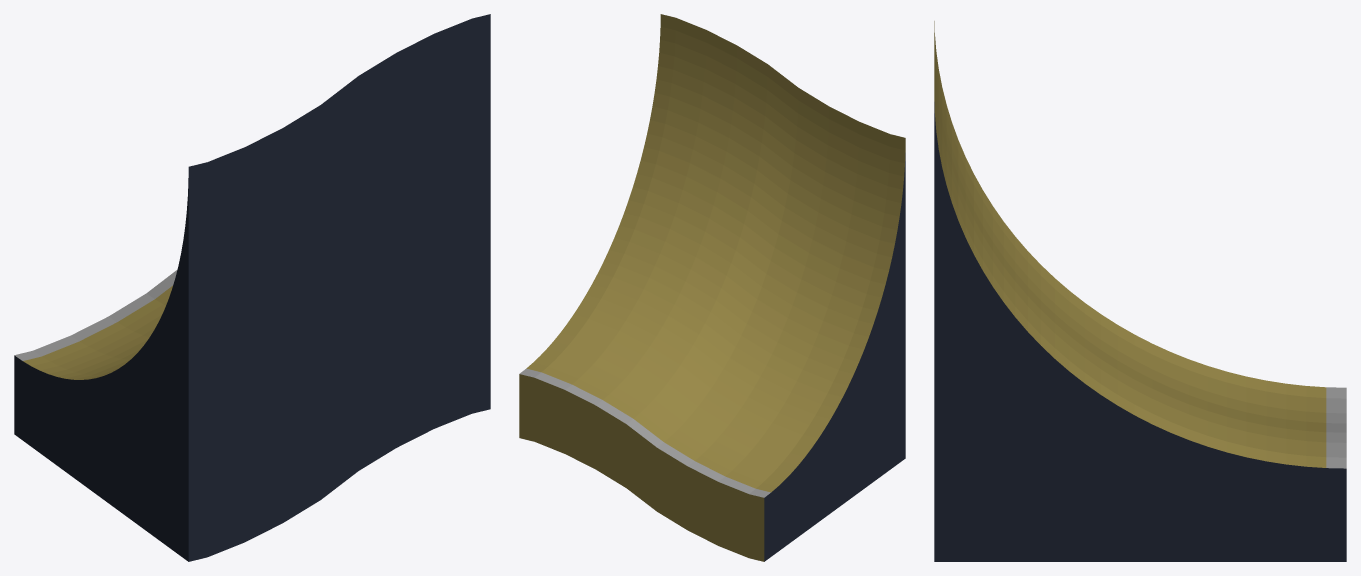
File: Bowl Z Connect.fbx
3 renders of one model, left to right at view 1: azimuth 30°, elevation 25°; view 2: azimuth 150°, elevation 25°; view 3: azimuth 270°, elevation 25°, orthographic. The views are drawn at different scales.
Visible parts, largest first — view 1: Bowl Z Connect; view 2: Bowl Z Connect; view 3: Bowl Z Connect.
Part boxes in pixels (bbox=[...]): Bowl Z Connect: bbox=[14, 14, 490, 561]; Bowl Z Connect: bbox=[519, 14, 905, 561]; Bowl Z Connect: bbox=[934, 21, 1346, 561].
Size of the model in its own units: 800 by 1200 by 800.
